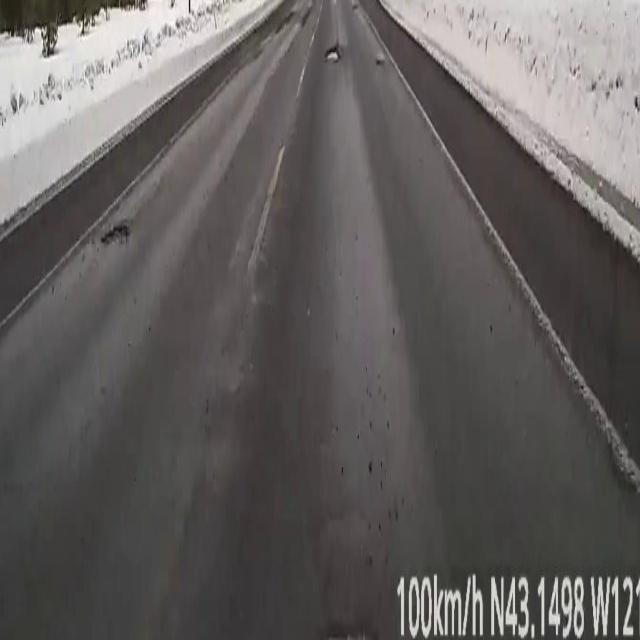pothole: (101, 220, 135, 248), (326, 46, 338, 62)
